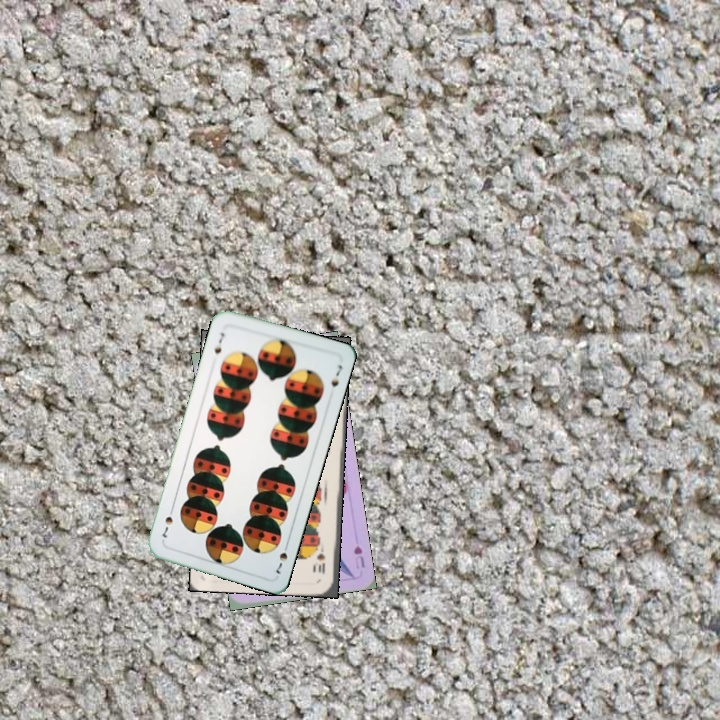HU: (350, 541, 367, 571)
S10: (314, 540, 328, 577)
S7: (272, 538, 291, 577), (210, 328, 227, 357)
